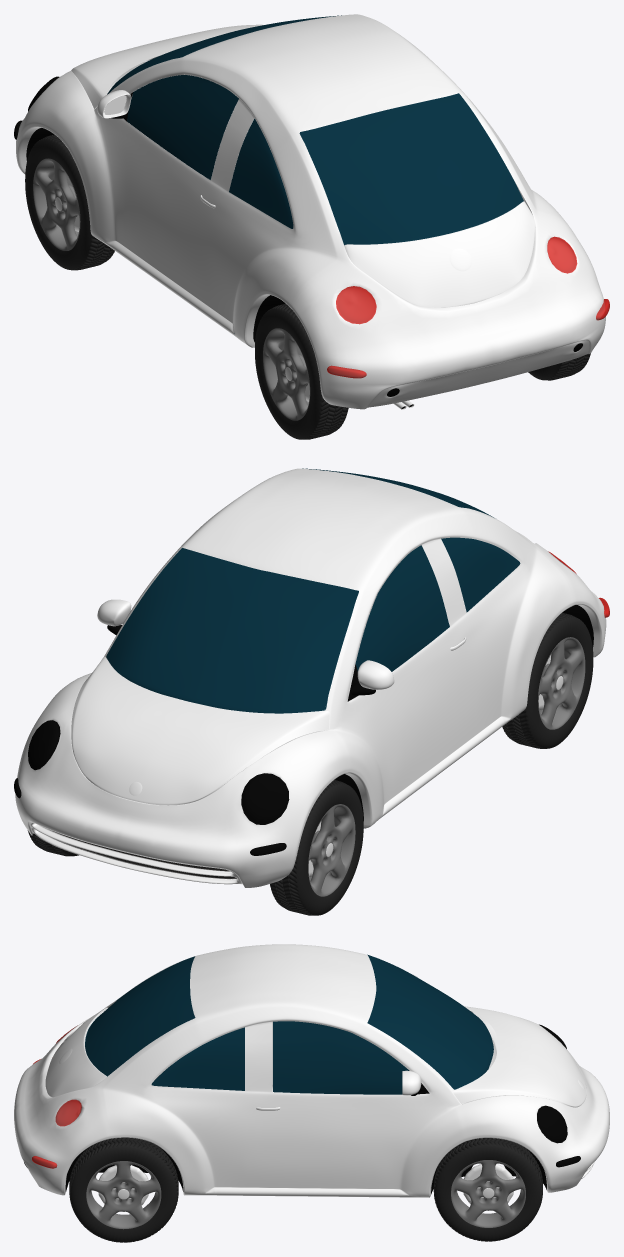
File: vehicle.obj
3 views of the same model, one above another, from view 1: azimuth 30°, elevation 25°; view 2: azimuth 150°, elevation 25°; view 3: azimuth 270°, elevation 25° (orthographic). The views are drawn at different scales.
Visible parts, largest first — view 1: car.obj; view 2: car.obj; view 3: car.obj.
Part boxes in pixels (left/top/right/bottom): car.obj: left=14, top=14, right=609, bottom=439; car.obj: left=14, top=468, right=609, bottom=915; car.obj: left=14, top=944, right=609, bottom=1242.
Bounding box in the file's own units: 1.76 × 1.6 × 3.92.
